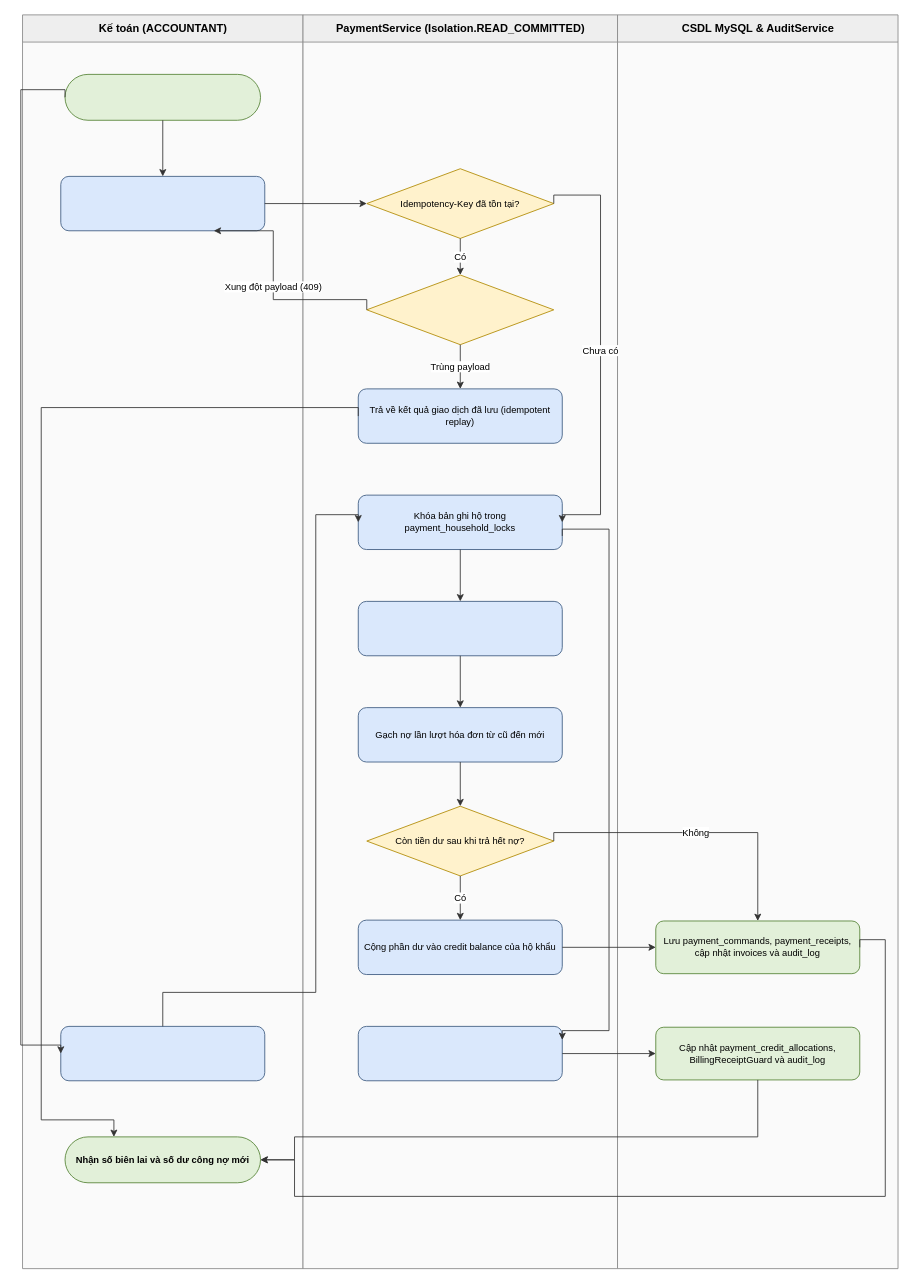
Some shapes in this 913 by 1284 pixel diagram are drawn without their labels. The shapes that lost their labels are listed below. From the top down, each one's centre as x and y in pixels, then its label:
At [162,97]: "Bắt đầu thu tiền hoặc xử lý công nợ".
At [162,203]: "Chọn hộ khẩu, nhập số tiền và gửi kèm Idempotency-Key".
At [460,309]: "Payload trùng khớp yêu cầu trước?".
At [459,628]: "Lấy danh sách hóa đơn còn nợ theo thứ tự FIFO".
At [162,1053]: "Chọn lệnh phân bổ dư có (allocate), hủy (void) hoặc đảo (reverse)".
At [459,1053]: "Kiểm tra điều kiện hủy/đảo phân bổ và hoàn lại công nợ".
